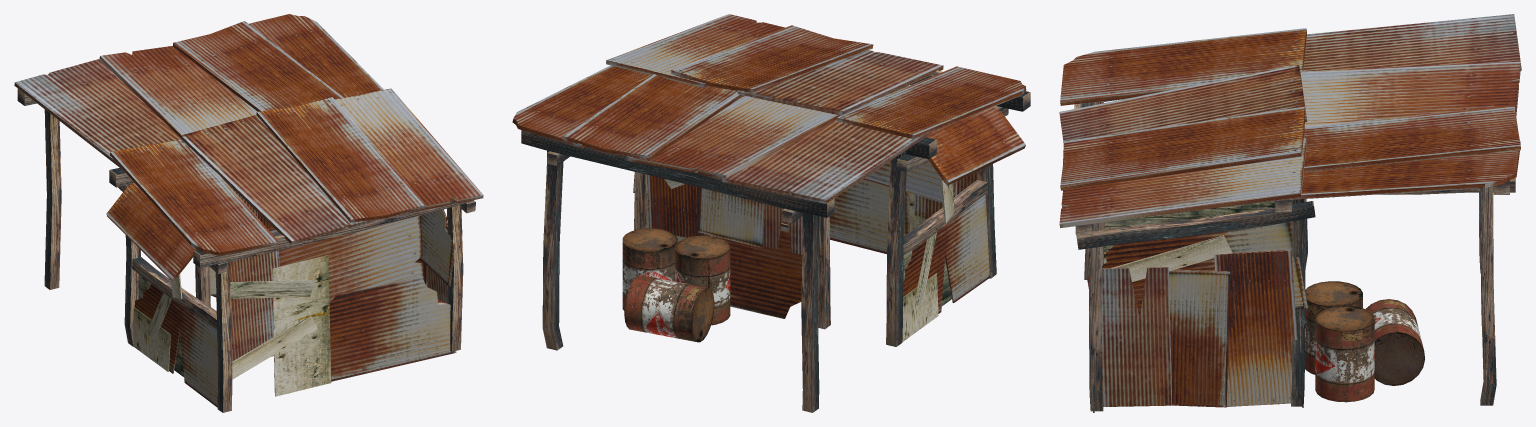
File: Shade for glade.fbx
The picture shows the model from 3 angles, left to right: view 1: azimuth 30°, elevation 25°; view 2: azimuth 150°, elevation 25°; view 3: azimuth 270°, elevation 25°; orthographic projection. The views are drawn at different scales.
Parts seen in each view (by area): view 1: pasted__pasted__pasted__pCube1 (×4), pasted__pasted__pCube1 (×3), pasted__pCube1 (×2), pasted__pasted__pasted__pCube2 (×4), pasted__pasted__pasted__pasted__pCube1, pCube1, pasted__pasted__pCube3, pasted__pasted__pasted__pCube3 (×2), pasted__pCube4, pasted__pasted__pasted__pasted__pCube4 (×2), pasted__pasted__pasted__pCube4 (×2), pCube4 (+3 smaller); view 2: pasted__pasted__pasted__pCube1 (×4), pasted__pCube1 (×2), pasted__pasted__pCube1 (×3), pasted__pasted__pasted__pCube2 (×2), pasted__pasted__pCube4 (×4), pCube1, pasted__pCylinder1 (×2), pasted__pasted__pasted__pasted__pCube1, pasted__pasted__pCube2 (×2), pasted__pasted__pasted__pCube4 (×3), pasted__pCube4, pasted__pCube2 (+6 smaller); view 3: pasted__pCube1 (×2), pasted__pasted__pCube1 (×2), pasted__pasted__pasted__pCube1 (×2), pasted__pasted__pasted__pCube2 (×2), pasted__pasted__pasted__pasted__pCube1, pasted__pCube2, pCube1, pasted__pasted__pCube2, pasted__pasted__pCube4 (×4), pasted__pCylinder1 (×2), pCylinder1, pasted__pasted__pasted__pCube4 (+2 smaller).
Boxes of the visible parts, left/top/right/bottom form: pasted__pasted__pasted__pCube1 (×4): left=106, top=14, right=426, bottom=302; pasted__pasted__pCube1 (×3): left=173, top=21, right=483, bottom=361; pasted__pCube1 (×2): left=99, top=46, right=378, bottom=244; pasted__pasted__pasted__pCube2 (×4): left=134, top=209, right=456, bottom=407; pasted__pasted__pasted__pasted__pCube1: left=110, top=139, right=278, bottom=255; pCube1: left=14, top=59, right=180, bottom=170; pasted__pasted__pCube3: left=272, top=255, right=331, bottom=396; pasted__pasted__pasted__pCube3 (×2): left=133, top=307, right=317, bottom=379; pasted__pCube4: left=44, top=109, right=61, bottom=289; pasted__pasted__pasted__pasted__pCube4 (×2): left=193, top=188, right=473, bottom=306; pasted__pasted__pasted__pCube4 (×2): left=124, top=235, right=217, bottom=346; pCube4: left=215, top=261, right=232, bottom=412; pasted__pasted__pasted__pCube1 (×4): left=512, top=25, right=1025, bottom=202; pasted__pCube1 (×2): left=627, top=50, right=943, bottom=178; pasted__pasted__pCube1 (×3): left=563, top=14, right=977, bottom=218; pasted__pasted__pasted__pCube2 (×2): left=781, top=179, right=989, bottom=313; pasted__pasted__pCube4 (×4): left=521, top=106, right=1008, bottom=350; pCube1: left=722, top=120, right=928, bottom=203; pasted__pCylinder1 (×2): left=624, top=235, right=730, bottom=342; pasted__pasted__pasted__pasted__pCube1: left=836, top=66, right=1026, bottom=139; pasted__pasted__pCube2 (×2): left=646, top=193, right=802, bottom=318; pasted__pasted__pasted__pCube4 (×3): left=886, top=137, right=987, bottom=346; pasted__pCube4: left=801, top=213, right=819, bottom=412; pasted__pCube2: left=698, top=188, right=764, bottom=248; pasted__pCube1 (×2): left=1059, top=61, right=1520, bottom=142; pasted__pasted__pCube1 (×2): left=1059, top=105, right=1520, bottom=227; pasted__pasted__pasted__pCube1 (×2): left=1060, top=106, right=1520, bottom=200; pasted__pasted__pasted__pCube2 (×2): left=1087, top=221, right=1307, bottom=406; pasted__pasted__pasted__pasted__pCube1: left=1060, top=28, right=1306, bottom=105; pasted__pCube2: left=1214, top=250, right=1297, bottom=406; pCube1: left=1303, top=14, right=1521, bottom=71; pasted__pasted__pCube2: left=1169, top=269, right=1230, bottom=407; pasted__pasted__pCube4 (×4): left=1089, top=178, right=1515, bottom=411; pasted__pCylinder1 (×2): left=1305, top=281, right=1424, bottom=385; pCylinder1: left=1315, top=305, right=1374, bottom=402; pasted__pasted__pasted__pCube4: left=1076, top=201, right=1315, bottom=249.
Bounding box in the file's own units: 2.62 × 1.74 × 2.94.
Materials: 47 (47 with a texture image).
